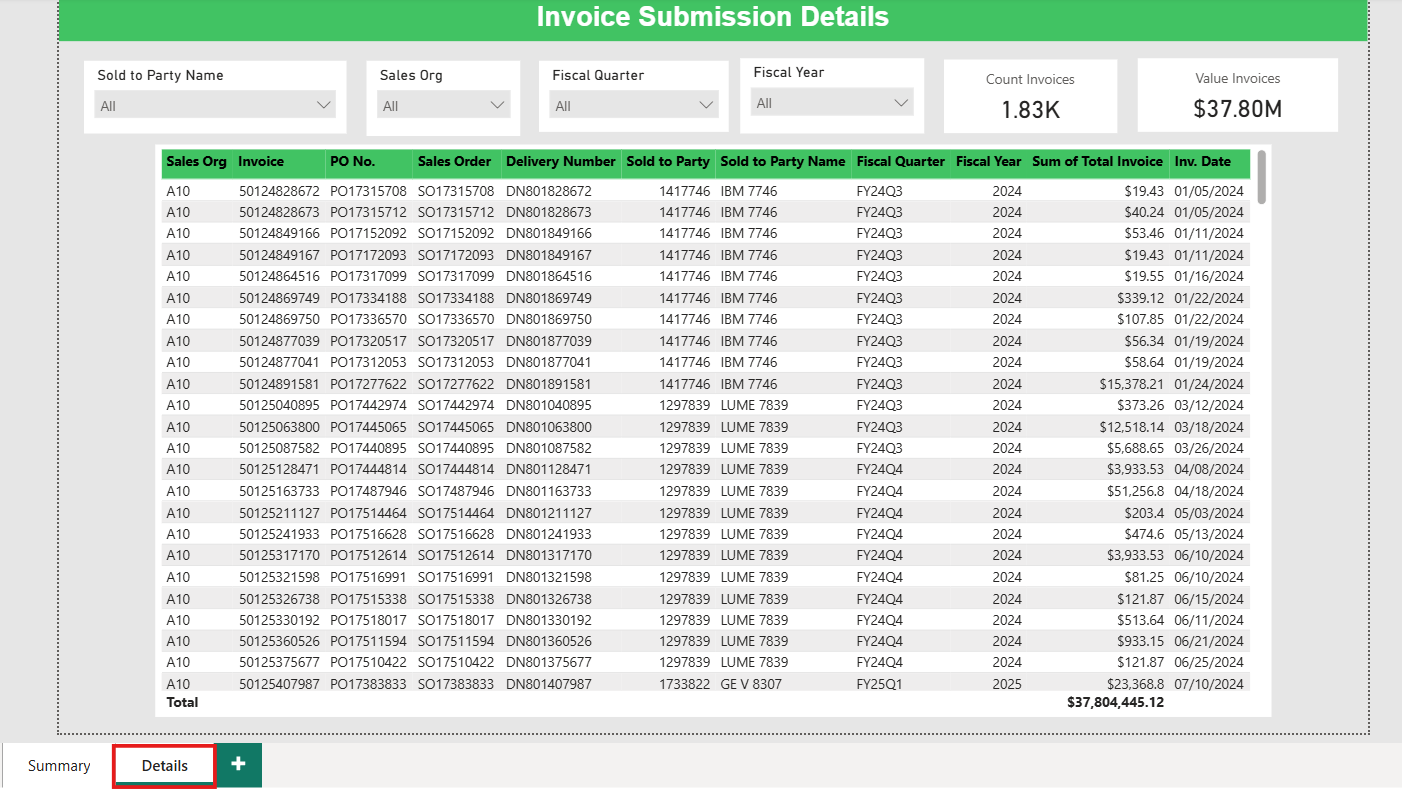

Layout of this report page (visuals, bound fields, positions):
{"tool":"powerbi","page":{"name":"Details","canvas":[1280,720],"ordinal":1},"visuals":[{"type":"textbox","box":[0,0,1280,43.3],"z":0},{"type":"tableEx","fields":{"Values":["Customers.Sales Org","Invoices.Invoice","Orders.PO No.","Orders.Sales Order","Orders.Delivery Number","Customers.Sold to Party","Customers.Sold to Party Name","FiscalCalendar.Fiscal Quarter","FiscalCalendar.Fiscal Year","Sum(Invoices.Total Invoice)","Invoices.Inv. Date"]},"box":[94.2,144.3,1092,560.1],"z":1000},{"type":"slicer","fields":{"Values":["Customers.Sold to Party Name"]},"box":[24.5,62.4,256.8,70.9],"z":2000},{"type":"slicer","fields":{"Values":["Customers.Sales Org"]},"box":[300.8,62.4,150.4,73.4],"z":3000},{"type":"slicer","fields":{"Values":["FiscalCalendar.Fiscal Quarter"]},"box":[469.4,62.7,185.9,69.7],"z":4000},{"type":"slicer","fields":{"Values":["FiscalCalendar.Fiscal Year"]},"box":[666.4,59.9,179.8,73.4],"z":5000},{"type":"cardVisual","fields":{"Data":["CountNonNull(Invoices.Invoice)"]},"box":[865.8,61.1,170,72.1],"z":6000},{"type":"cardVisual","fields":{"Data":["Sum(Invoices.Total Invoice)"]},"box":[1055.1,60.4,196.4,72],"z":7000}]}

Visuals, with their boxes in screenshot pixels (x1, y1, x2, y2), scaled from the page's 1280x720 canvas onto the 1402x789 screenshot:
textbox: {"left": 0, "top": 0, "right": 1401, "bottom": 47}
tableEx - Customers.Sales Org x Invoices.Invoice: {"left": 103, "top": 158, "right": 1299, "bottom": 772}
slicer - Customers.Sold to Party Name: {"left": 27, "top": 68, "right": 308, "bottom": 146}
slicer - Customers.Sales Org: {"left": 329, "top": 68, "right": 494, "bottom": 149}
slicer - FiscalCalendar.Fiscal Quarter: {"left": 514, "top": 69, "right": 718, "bottom": 145}
slicer - FiscalCalendar.Fiscal Year: {"left": 730, "top": 66, "right": 927, "bottom": 146}
cardVisual - CountNonNull(Invoices.Invoice): {"left": 948, "top": 67, "right": 1135, "bottom": 146}
cardVisual - Sum(Invoices.Total Invoice): {"left": 1156, "top": 66, "right": 1371, "bottom": 145}
